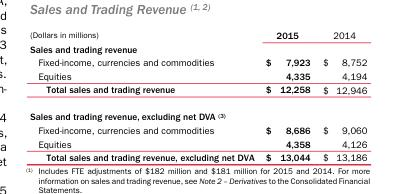table: (29, 29, 366, 162)
table column: (29, 29, 259, 162), (259, 29, 315, 162), (315, 29, 366, 162)
table column header: (29, 29, 366, 41)
table projected row header: (29, 102, 366, 122), (29, 41, 366, 55)
table row: (29, 82, 366, 102), (29, 102, 366, 122), (29, 41, 366, 55), (29, 68, 366, 82), (29, 122, 366, 136), (29, 136, 366, 150), (29, 55, 366, 68), (29, 29, 366, 41), (29, 150, 366, 162)
